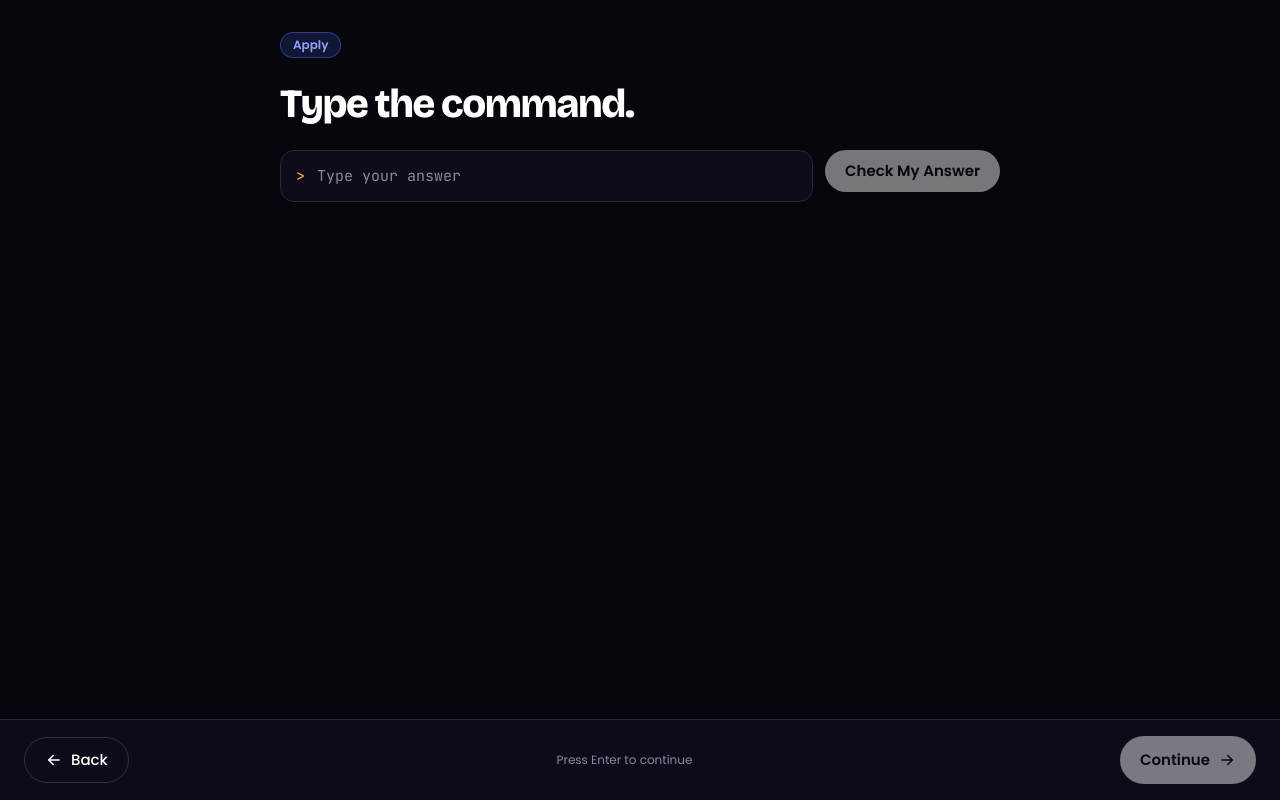
Test: a typed answer gives targeted feedback for a known mistake, and accepts extra spaces
The width and height of the screenshot is (1280, 800).
Type "cd" into the field labelled "your answer" at (546,176), box [280,150,813,202]
Then press Enter
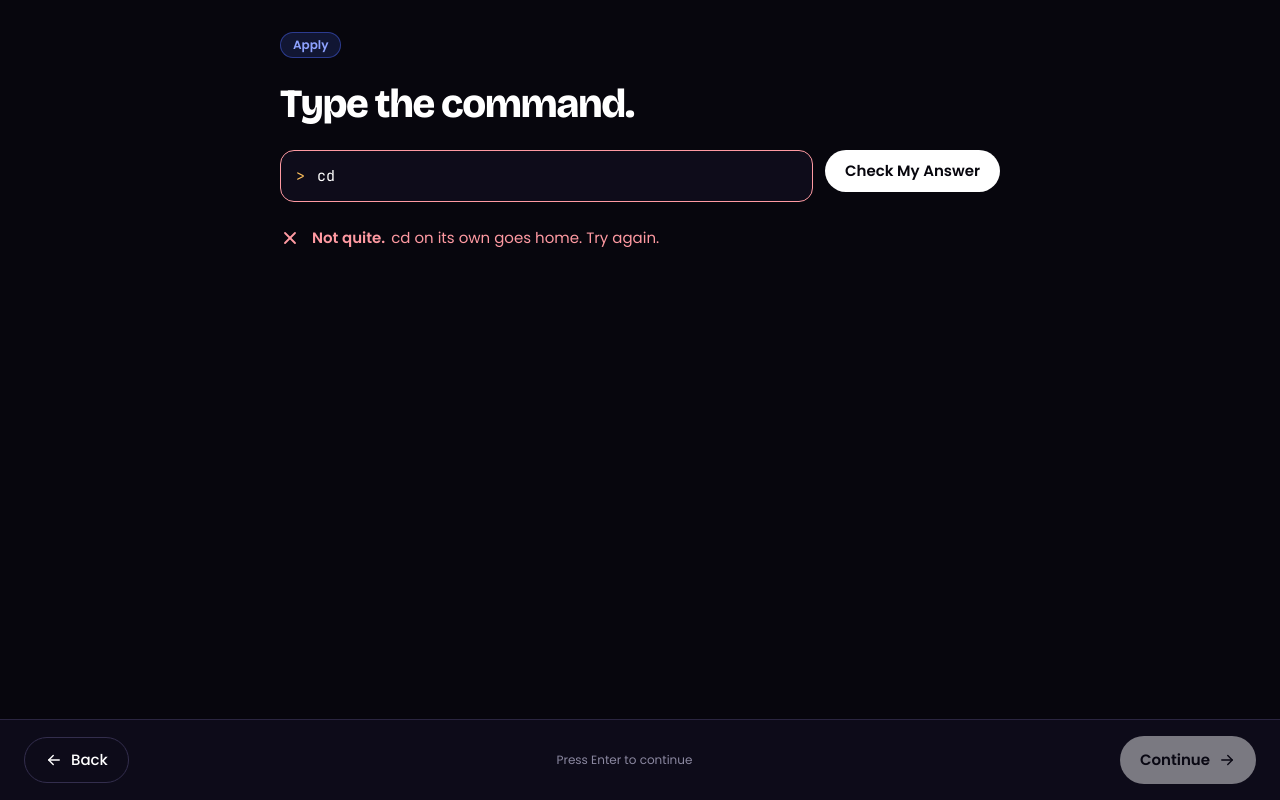
Expected: the button "Continue" is disabled, [1120,736,1256,784]
Expected: the text "cd on its own goes home. Try again." is shown, [391,227,659,248]
Replace the text in the field named "your answer" with "  cd   ..  " at (546,176), box [280,150,813,202]
Then press Enter
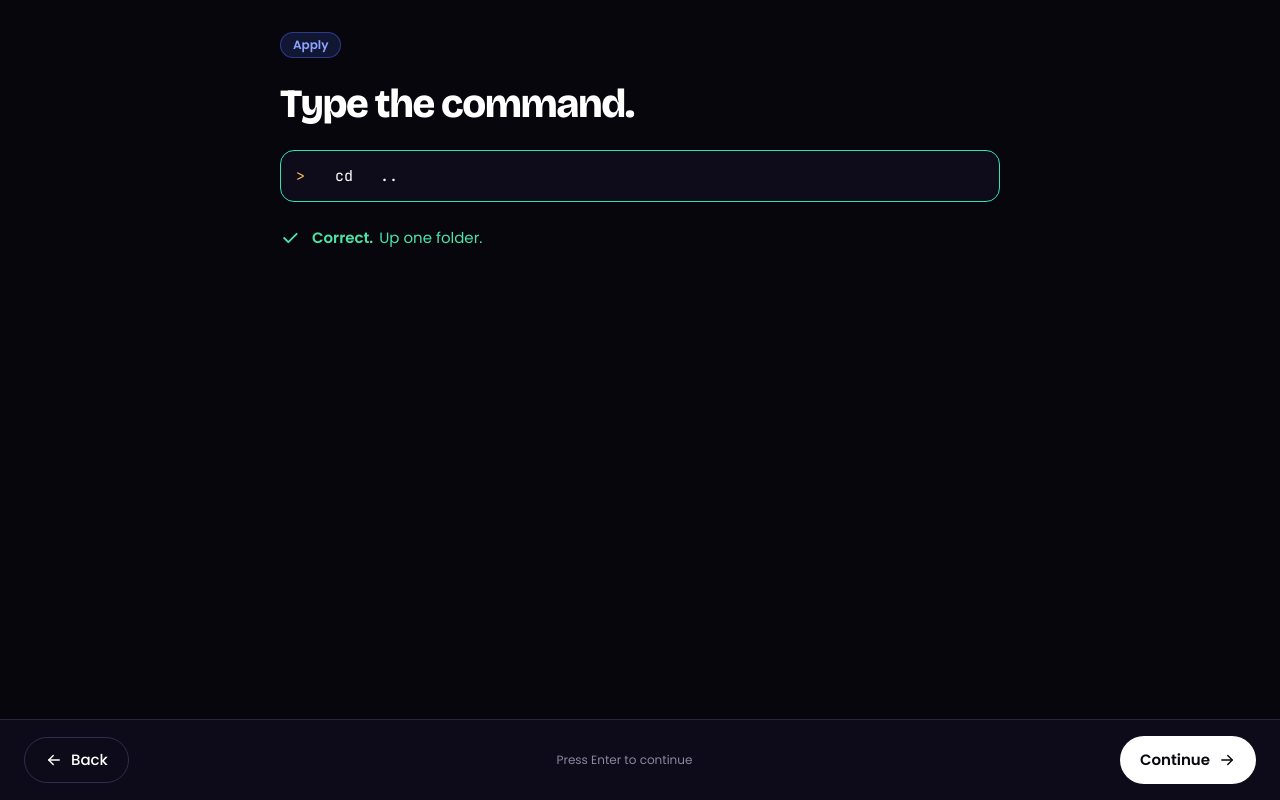
Expected: the text "Up one folder." is shown, [379,227,482,248]
Expected: the button "Continue" is enabled, [1120,736,1256,784]
